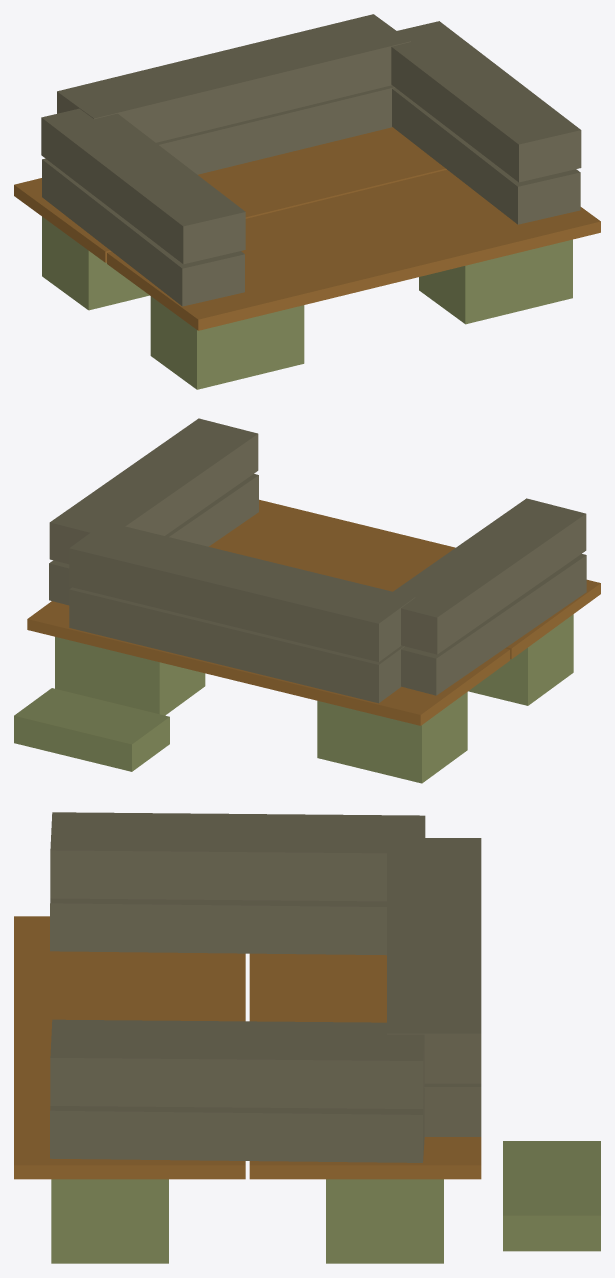
Rendered from SM_Nido_v1_LOD1.fbx.
3 renders of one model, top to bottom at view 1: azimuth 30°, elevation 25°; view 2: azimuth 150°, elevation 25°; view 3: azimuth 270°, elevation 25°, orthographic. The views are drawn at different scales.
Parts seen in each view (by area): view 1: SM_banqueta_tiro_v6_LOD1; view 2: SM_banqueta_tiro_v6_LOD1; view 3: SM_banqueta_tiro_v6_LOD1.
Boxes of the visible parts, <box> form: SM_banqueta_tiro_v6_LOD1: <box>14,14,600,389</box>; SM_banqueta_tiro_v6_LOD1: <box>14,418,600,783</box>; SM_banqueta_tiro_v6_LOD1: <box>14,812,600,1263</box>.
Size of the model in its own units: 3.01 by 1.19 by 2.99.
